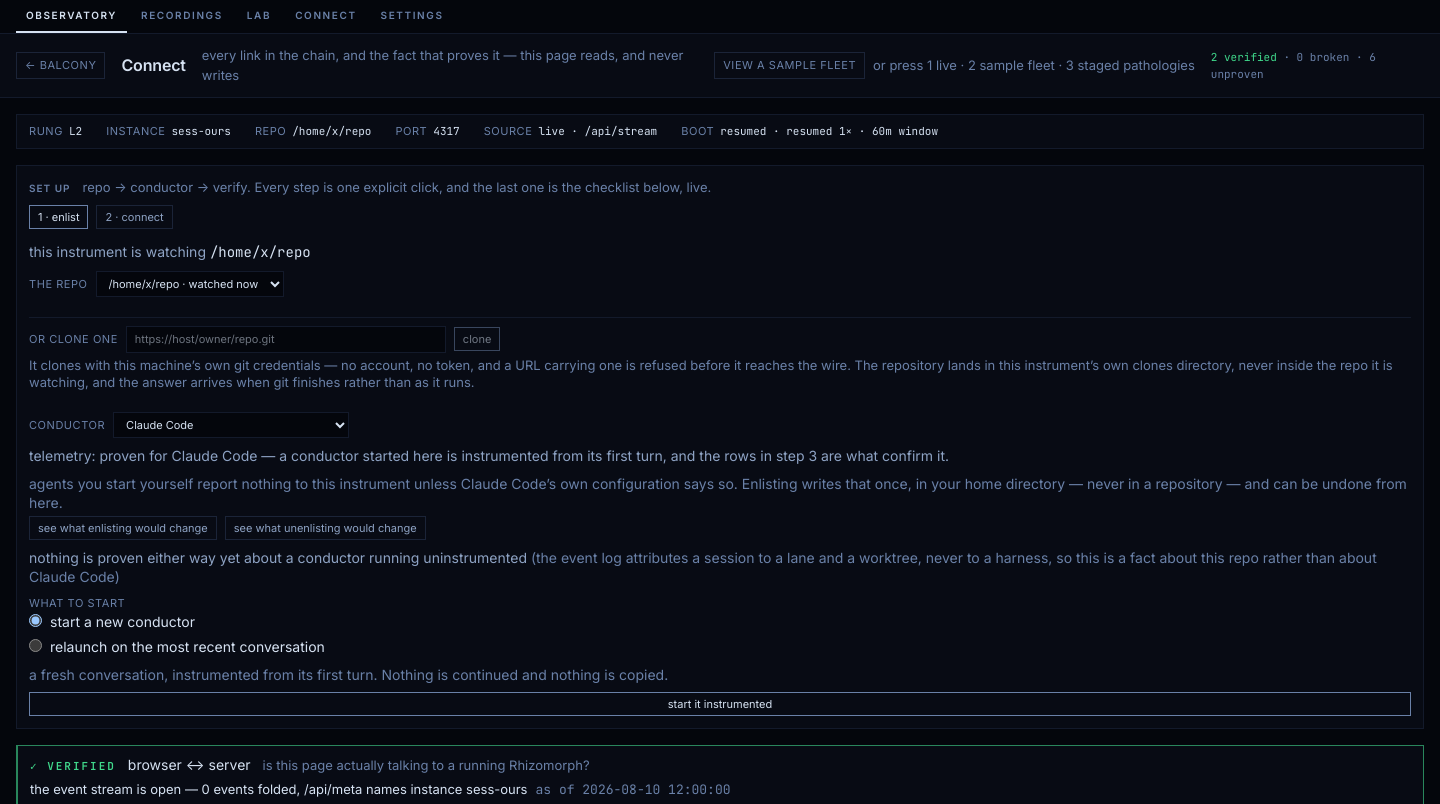
Test case: the uninstrumented sessions, enumerated (#520) › renders the sample fleet's own sessions, and hands out no act for them
The image size is (1440, 804).
What coordinates should you click on to do the following:
click the button with test id "connect-sample-activate"
I would click on:
 (790, 66)
Its box is [714,52,865,79].
(page scrolled)
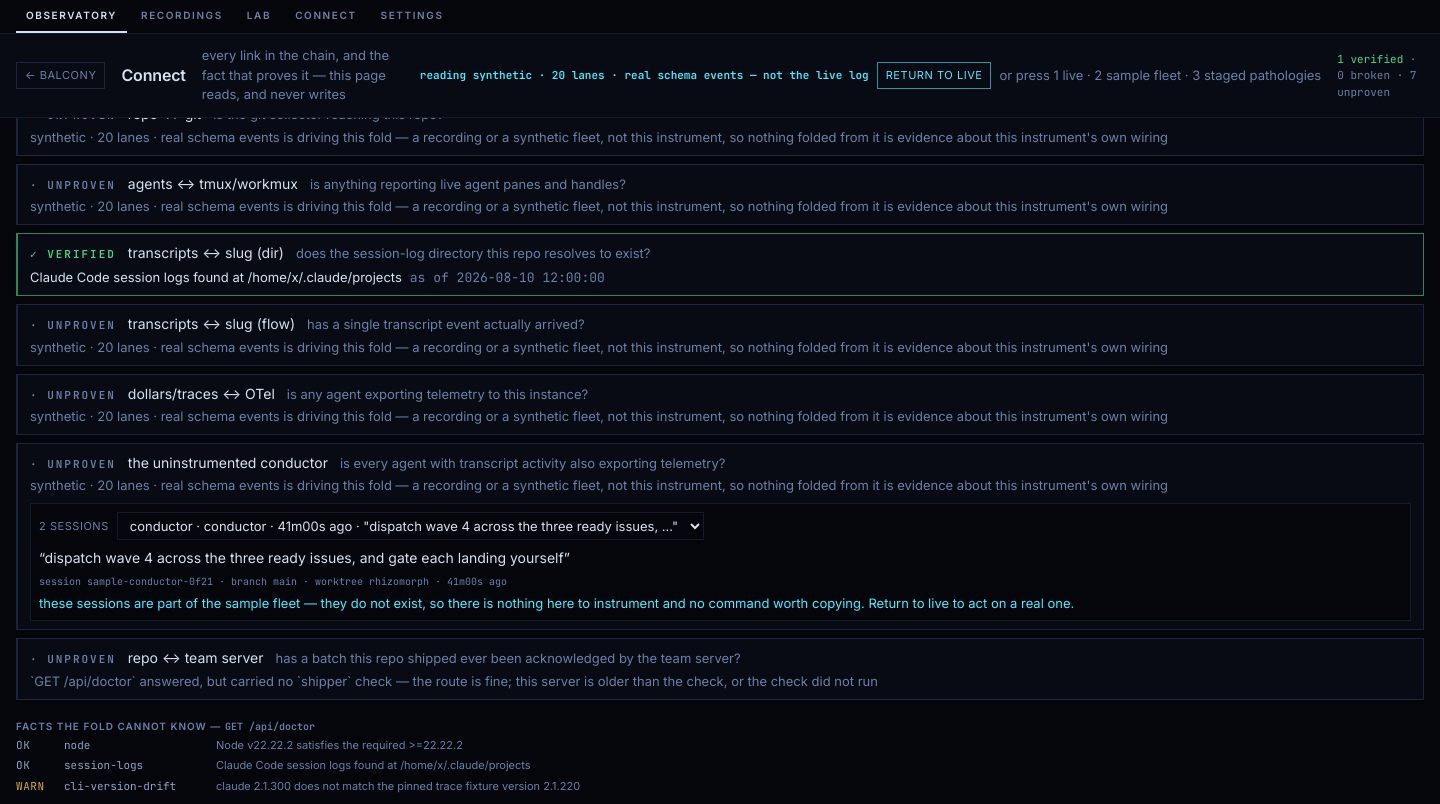
Check: the text with test id "connect-uninstrumented-fixture" shows "part of the sample fleet", box [39,594,1074,610]
